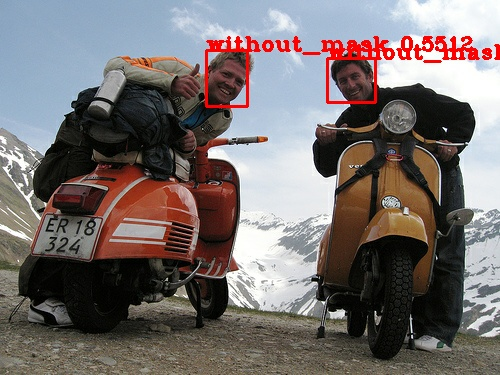without_mask: (209, 53, 249, 104), (331, 61, 376, 104)
